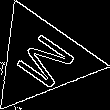M_SE: (5, 25, 78, 92)
